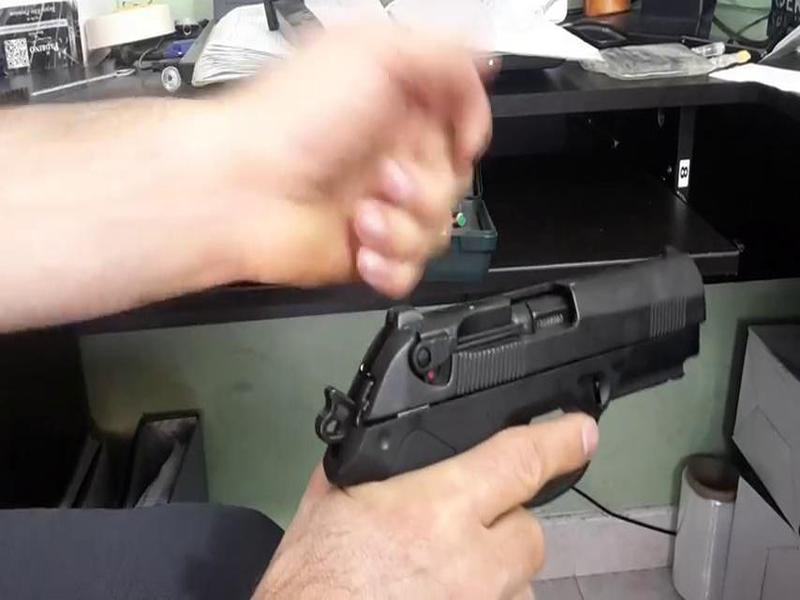Pistola: (293, 234, 719, 519)
